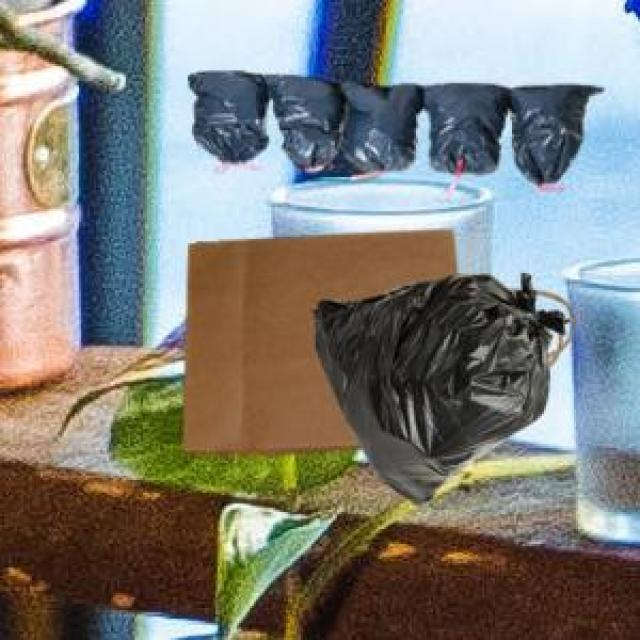miscellaneous trash: (309, 269, 565, 501), (184, 68, 600, 186)
paper: (179, 226, 560, 452)
